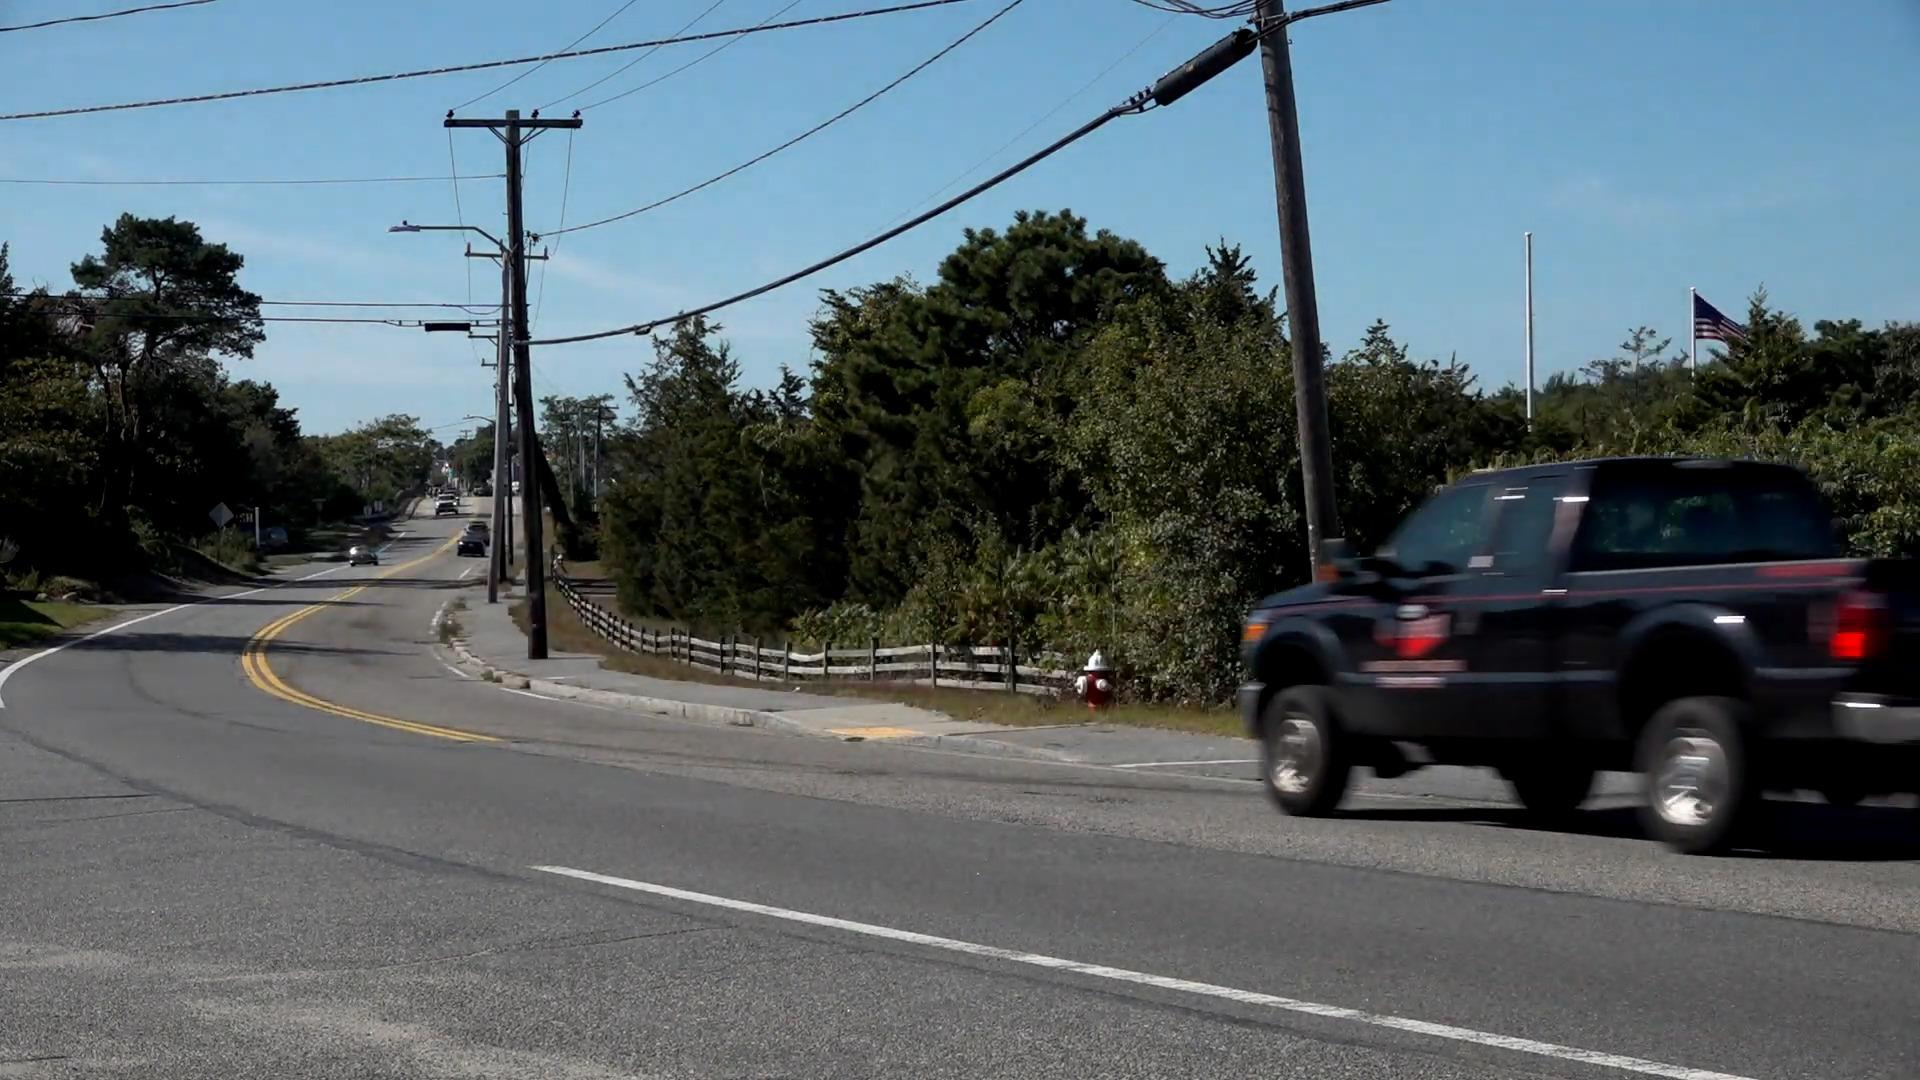pickup: (1247, 458, 1920, 847)
